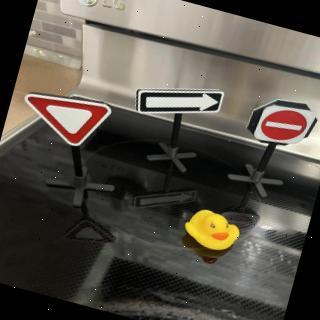duck_regular: (181, 207, 244, 259)
sign_noentry: (249, 95, 320, 155)
sign_oneway_right: (132, 70, 227, 134)
sign_yield: (16, 84, 114, 156)
